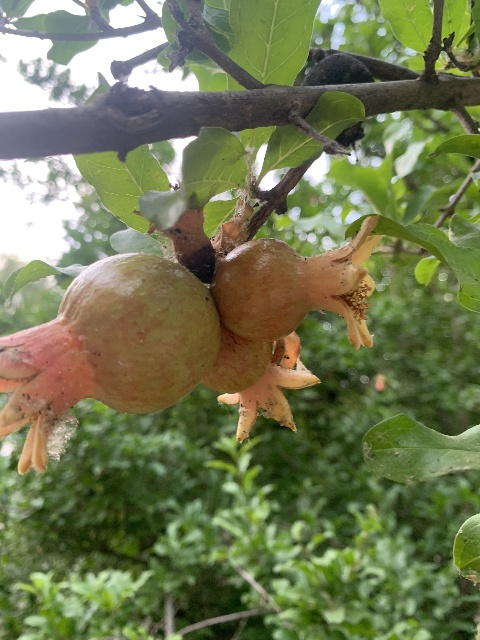early-fruit: (0, 252, 218, 477), (213, 215, 382, 351), (201, 326, 320, 442)
